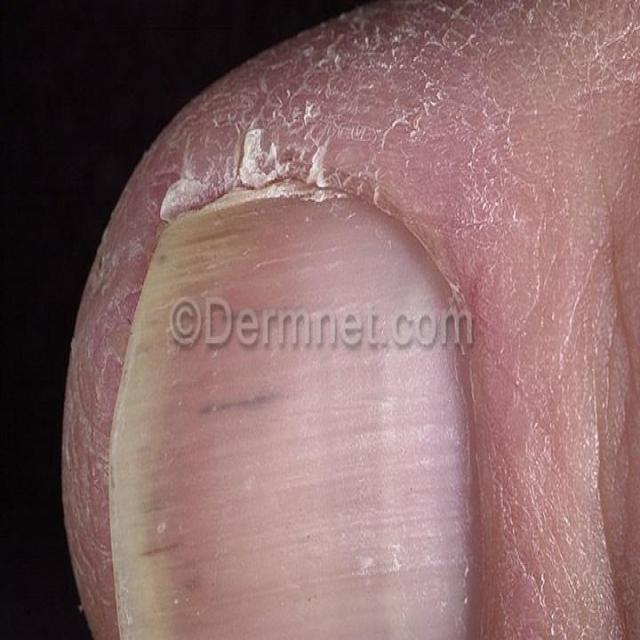Nail: (105, 187, 476, 640)
